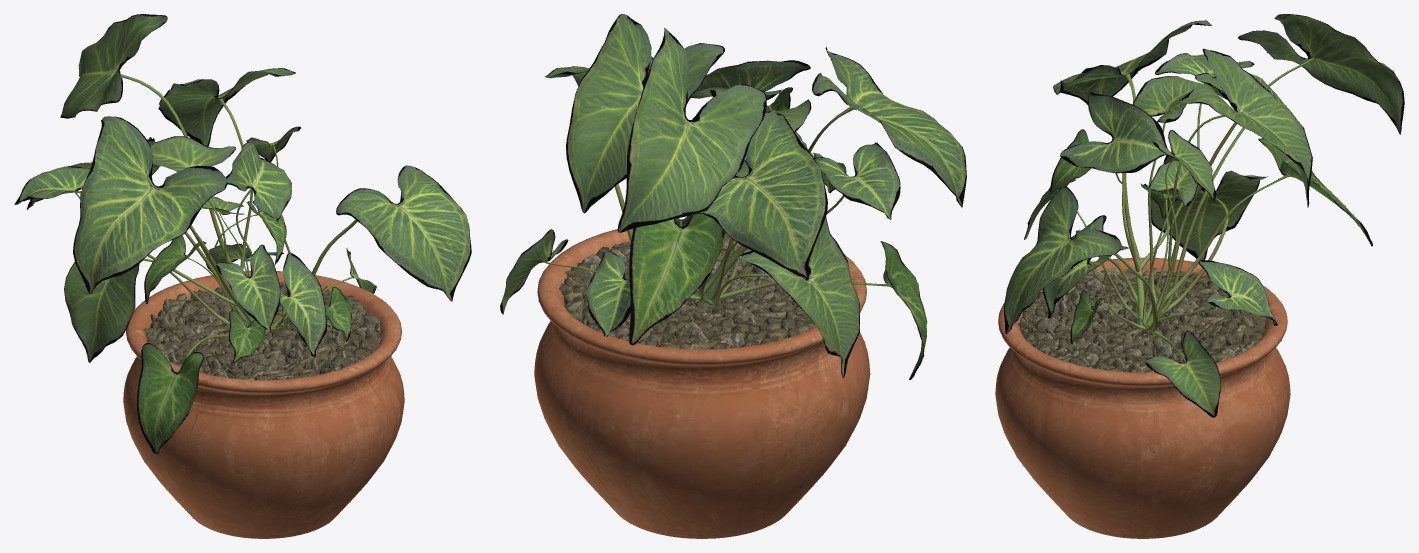
3 renders of one model, left to right at view 1: azimuth 30°, elevation 25°; view 2: azimuth 150°, elevation 25°; view 3: azimuth 270°, elevation 25°, orthographic. The views are drawn at different scales.
Parts seen in each view (by area): view 1: potted_plant_02_leaves, potted_plant_02_pot; view 2: potted_plant_02_leaves, potted_plant_02_pot; view 3: potted_plant_02_pot, potted_plant_02_leaves.
Boxes of the visible parts, box(x1,y1,x2,y2) form: potted_plant_02_leaves: box(14, 14, 471, 454); potted_plant_02_pot: box(123, 271, 404, 538); potted_plant_02_leaves: box(500, 14, 966, 379); potted_plant_02_pot: box(534, 219, 870, 538); potted_plant_02_pot: box(995, 257, 1290, 538); potted_plant_02_leaves: box(1004, 14, 1404, 417).
Bounding box in the file's own units: 0.7012 × 0.8412 × 0.6574.
Materials: 2 (2 with a texture image).
